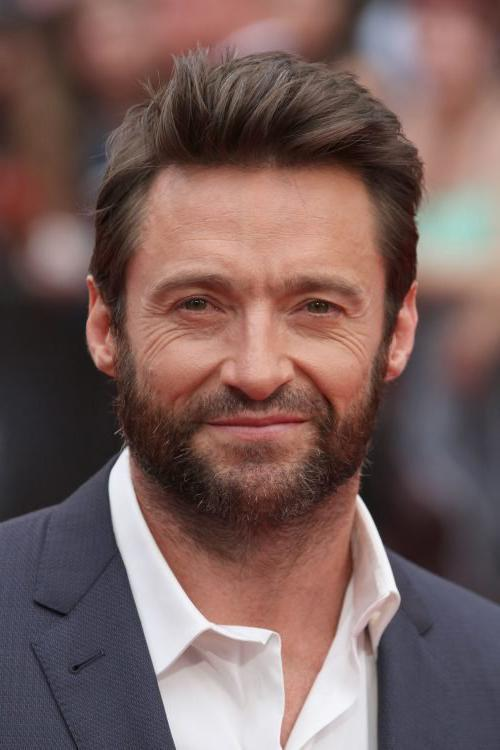Sober: (124, 152, 382, 484)
